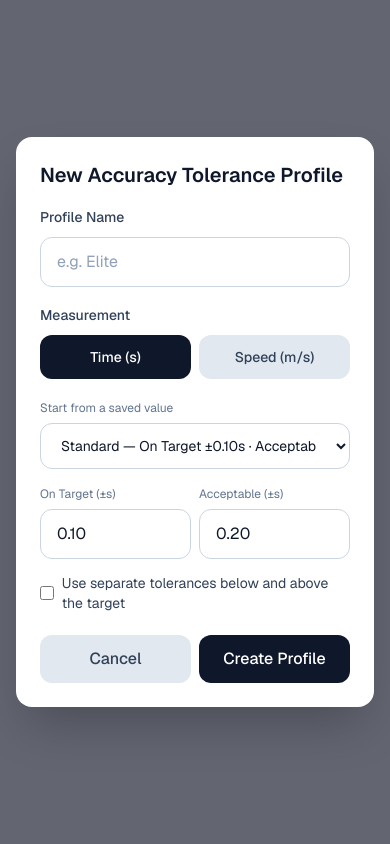
the profile editor now represents every stored template shape › switching quantity on a NEW template resets the values rather than reusing the digits
Replace the text in the field labelled "On Target (±s)" with "0.33" at (116, 534), box x1=40 y1=509 x2=191 y2=559
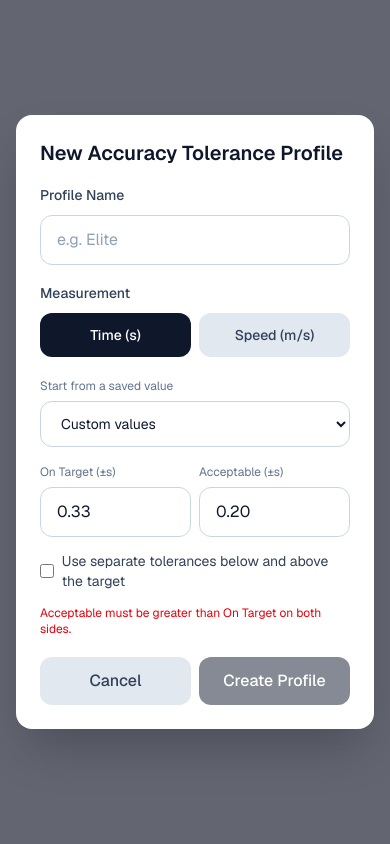
Click the radio button labelled "Speed (m/s)".
click(274, 335)  # box x1=199 y1=313 x2=350 y2=357
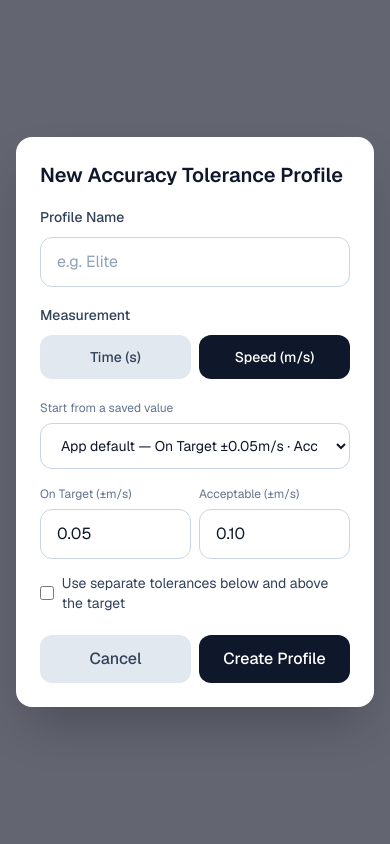
Result: the field labelled "On Target (±m/s)" holds "0.05" at x1=40 y1=509 x2=191 y2=559
Result: the field labelled "Acceptable (±m/s)" holds "0.10" at x1=199 y1=509 x2=350 y2=559
